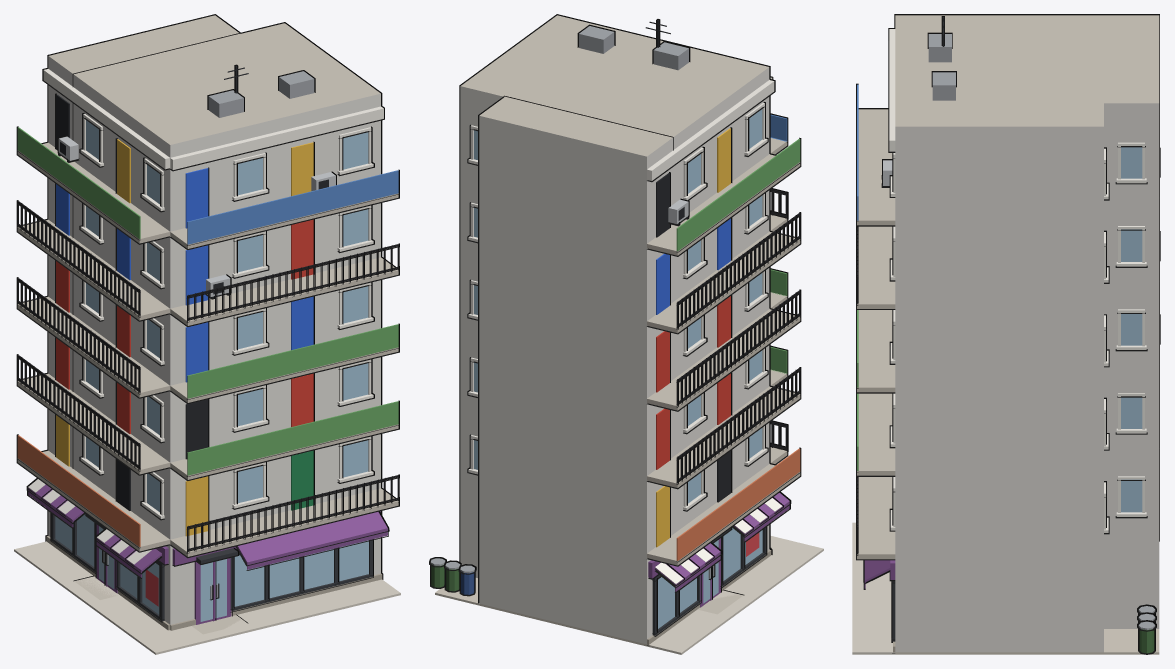
Rendered from Blok_kose_6k_4.fbx.
3 renders of one model, left to right at view 1: azimuth 30°, elevation 25°; view 2: azimuth 150°, elevation 25°; view 3: azimuth 270°, elevation 25°, orthographic. The views are drawn at different scales.
Visible parts, largest first — view 1: Blok_kose_6k_4; view 2: Blok_kose_6k_4; view 3: Blok_kose_6k_4.
Part boxes in pixels (x1,y1,x2,y2): Blok_kose_6k_4: [14, 14, 400, 654]; Blok_kose_6k_4: [429, 14, 823, 654]; Blok_kose_6k_4: [852, 14, 1160, 654].
Size of the model in its own units: 10.43 by 20.68 by 10.05.
